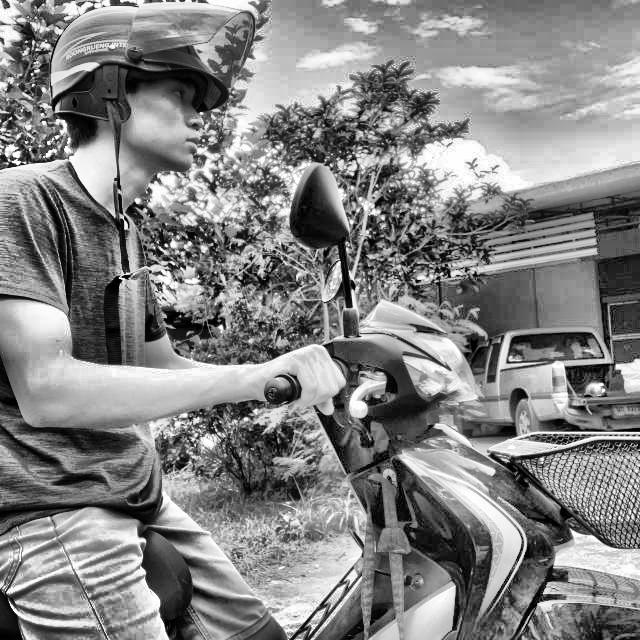Helmet: (39, 2, 267, 194)
